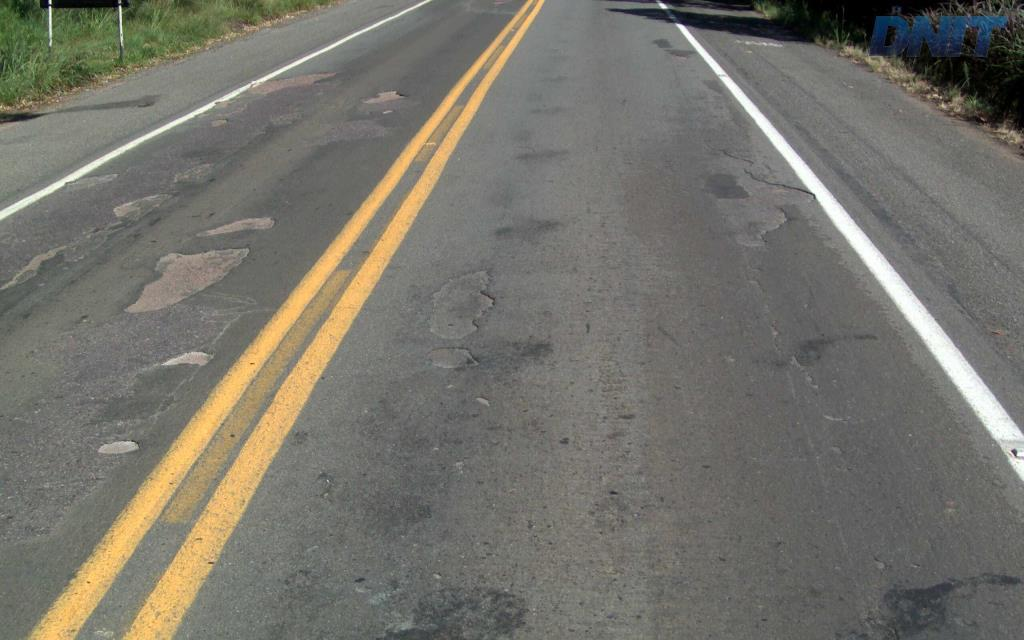pothole: (697, 140, 818, 256), (418, 258, 503, 377)
